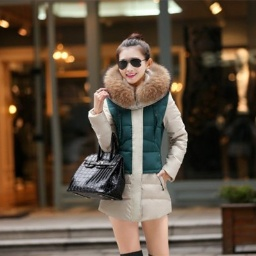face: (112, 33, 157, 84)
